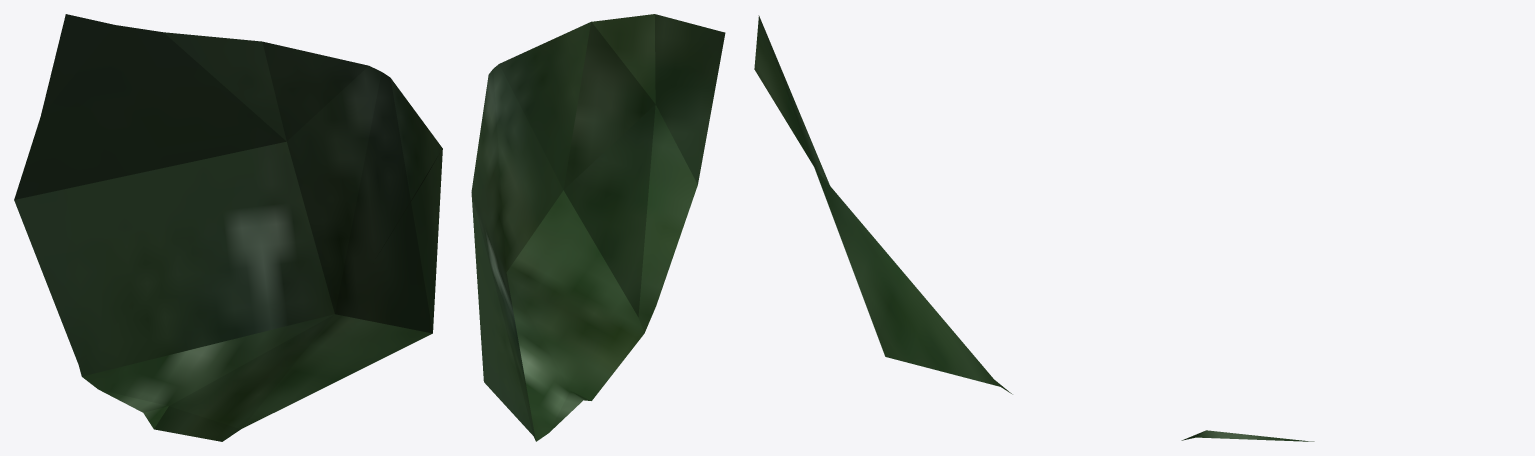
3 renders of one model, left to right at view 1: azimuth 30°, elevation 25°; view 2: azimuth 150°, elevation 25°; view 3: azimuth 270°, elevation 25°, orthographic. The views are drawn at different scales.
Size of the model in its own units: 1.04 by 1.96 by 3.18.
Materials: 1 (1 with a texture image).
